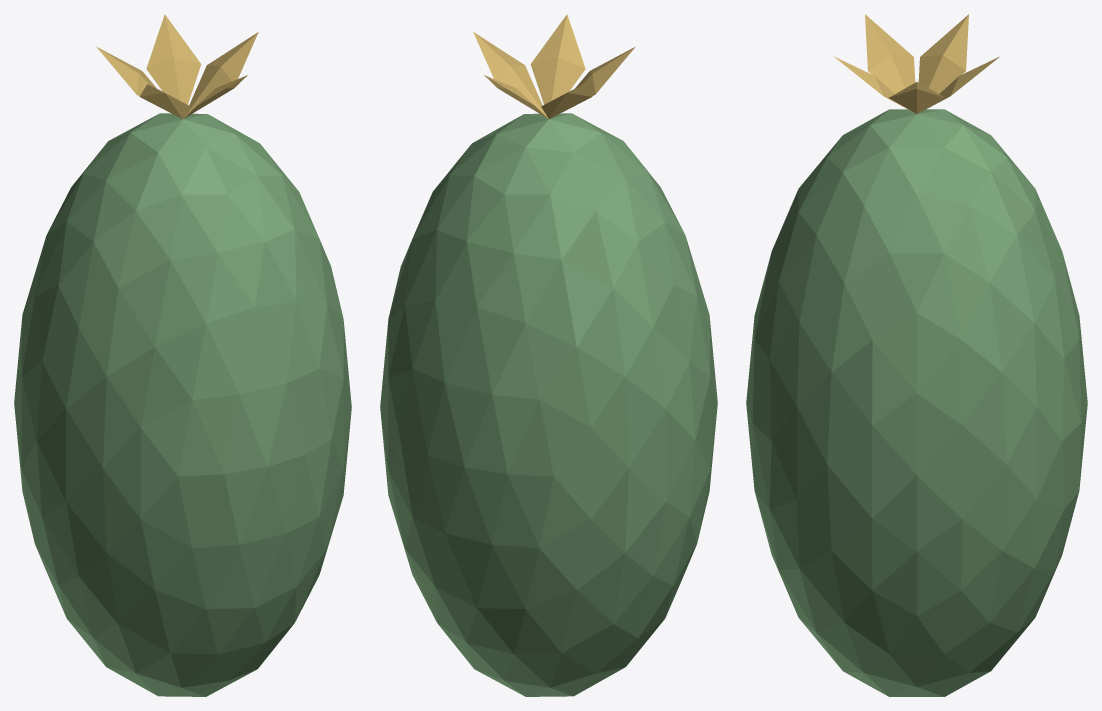
File: cactus_barrel_tall.glb
The picture shows the model from 3 angles, left to right: view 1: azimuth 30°, elevation 25°; view 2: azimuth 150°, elevation 25°; view 3: azimuth 270°, elevation 25°; orthographic projection.
Visible parts, largest first — view 1: cactus, flower_petal_1, flower_petal_0, flower_petal_2, flower_petal_3; view 2: cactus, flower_petal_4, flower_petal_0, flower_petal_3, flower_petal_2; view 3: cactus, flower_petal_2, flower_petal_3, flower_petal_0, flower_petal_1, flower_petal_4.
Boxes of the visible parts, box(x1,y1,x2,y2) form: cactus: box(14, 113, 351, 696); flower_petal_1: box(146, 14, 201, 104); flower_petal_0: box(183, 32, 258, 118); flower_petal_2: box(96, 46, 156, 96); flower_petal_3: box(139, 84, 190, 118); cactus: box(380, 113, 717, 696); flower_petal_4: box(530, 14, 585, 104); flower_petal_0: box(473, 32, 548, 118); flower_petal_3: box(575, 46, 635, 96); flower_petal_2: box(541, 84, 592, 118); cactus: box(746, 109, 1087, 696); flower_petal_2: box(918, 14, 968, 93); flower_petal_3: box(865, 14, 915, 93); flower_petal_0: box(889, 82, 944, 113); flower_petal_1: box(920, 56, 999, 112); flower_petal_4: box(834, 56, 913, 112).
Size of the model in its own units: 0.54 by 1.13 by 0.54.
